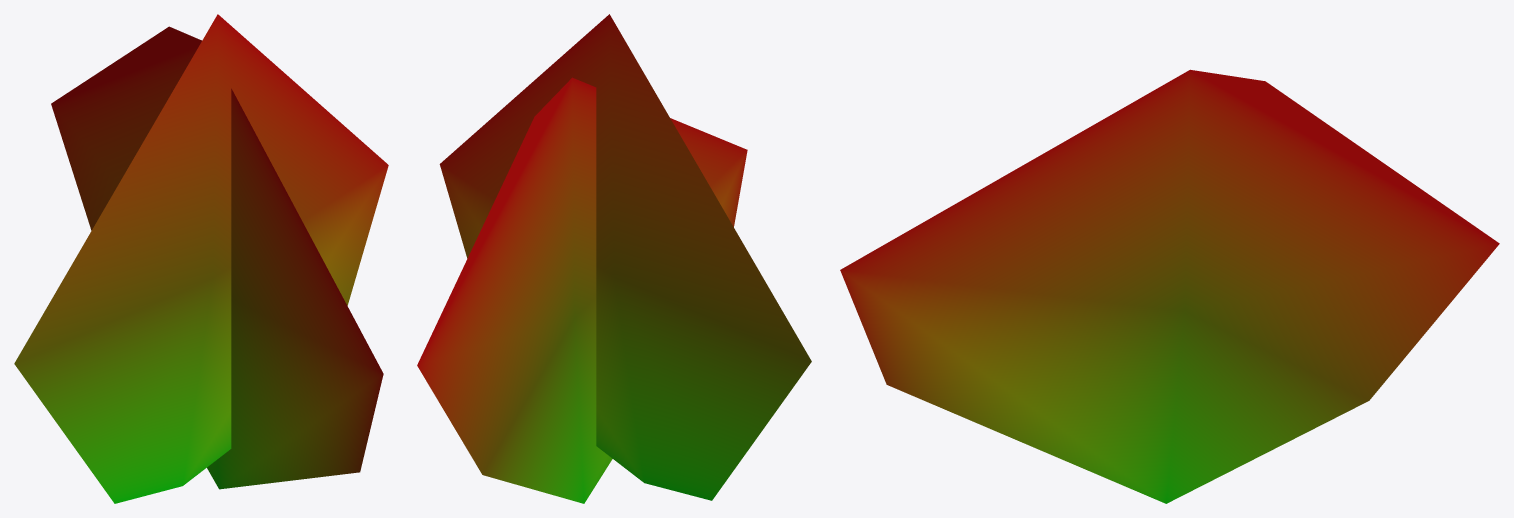
The model's file is Downy Willow_LOD6_Var12_wknlfiuqx.fbx.
3 views of the same model, side by side, from view 1: azimuth 30°, elevation 25°; view 2: azimuth 150°, elevation 25°; view 3: azimuth 270°, elevation 25° (orthographic).
Parts seen in each view (by area): view 1: _s21w_Var12_LOD6; view 2: _s21w_Var12_LOD6; view 3: _s21w_Var12_LOD6.
Part boxes in pixels (left/top/right/bottom): _s21w_Var12_LOD6: left=14, top=14, right=388, bottom=503; _s21w_Var12_LOD6: left=417, top=14, right=811, bottom=503; _s21w_Var12_LOD6: left=840, top=69, right=1499, bottom=503.
Bounding box in the file's own units: 45.18 × 56.19 × 69.49.
